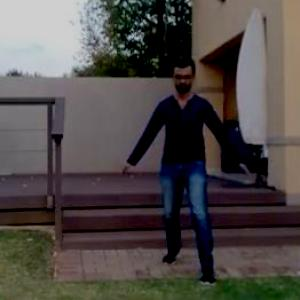land: (122, 45, 262, 288)
